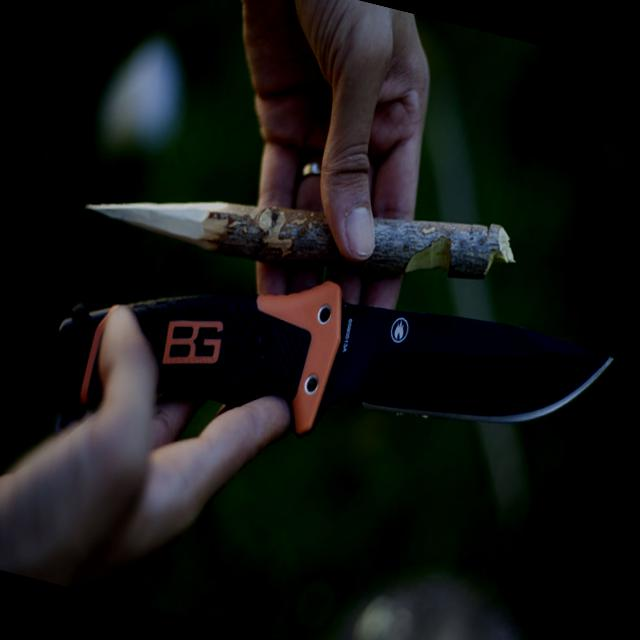knife: (160, 240, 626, 570)
